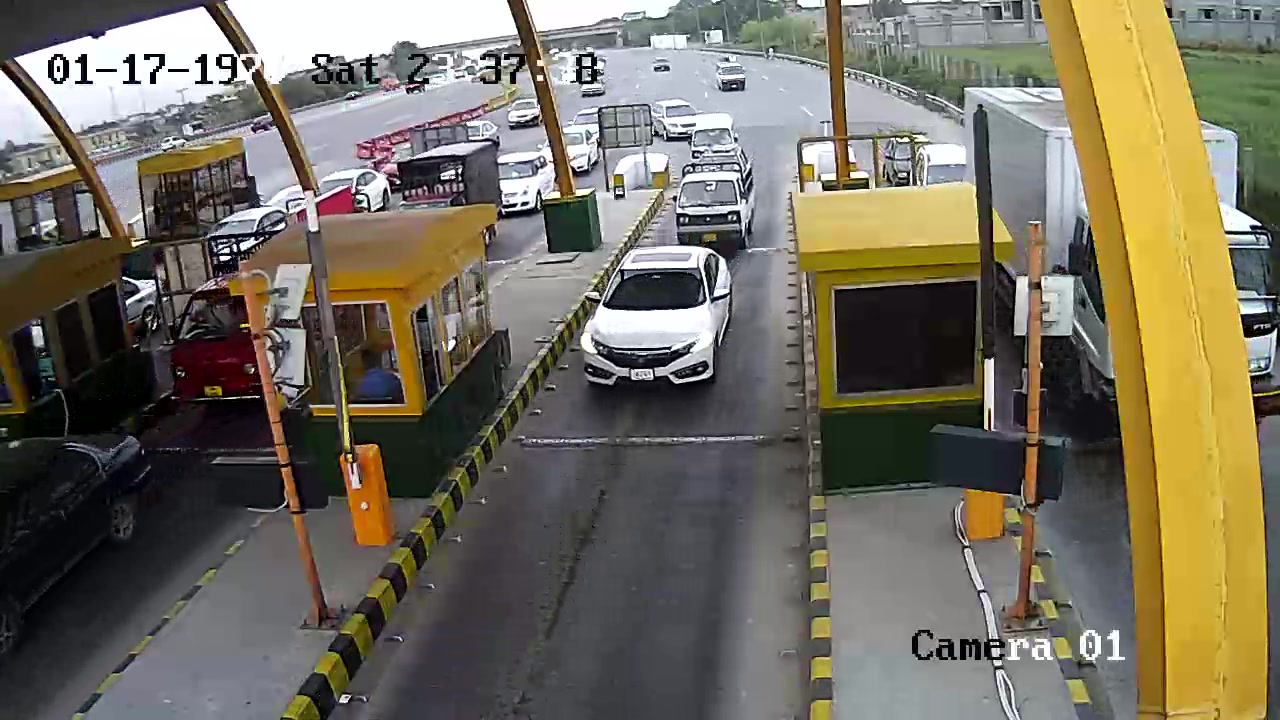F1: (570, 239, 760, 411)
